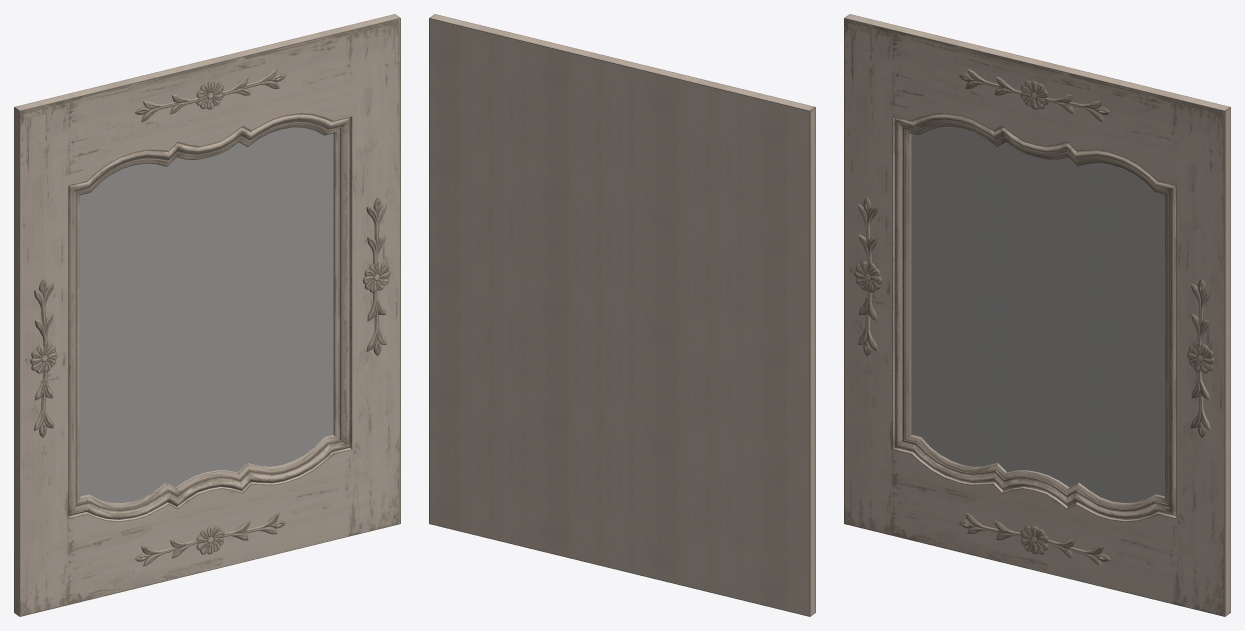
The model's file is example139.gltf.
3 renders of one model, left to right at view 1: azimuth 30°, elevation 25°; view 2: azimuth 150°, elevation 25°; view 3: azimuth 330°, elevation 25°, orthographic.
Size of the model in its own units: 78 by 98.95 by 2.34.
2 materials, 2 textured.
